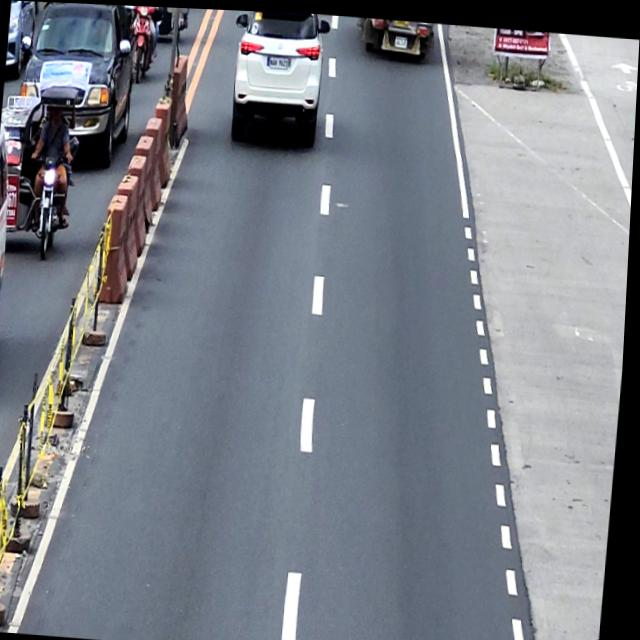Car: (14, 1, 139, 167), (226, 8, 331, 145), (0, 122, 17, 354), (5, 0, 36, 80)
Jeep: (353, 13, 435, 56)
License-Plate: (265, 49, 293, 67)
Tricycle: (0, 78, 85, 263)
